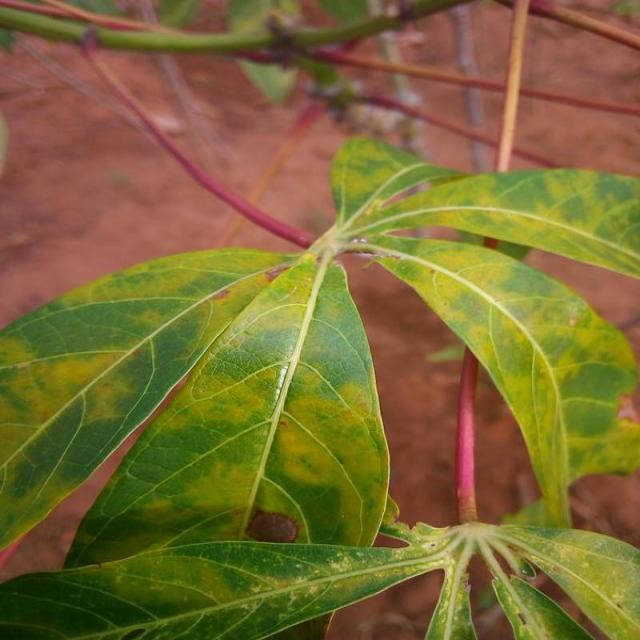cassava leaf: (0, 132, 638, 637), (60, 250, 391, 570), (360, 232, 638, 527)
